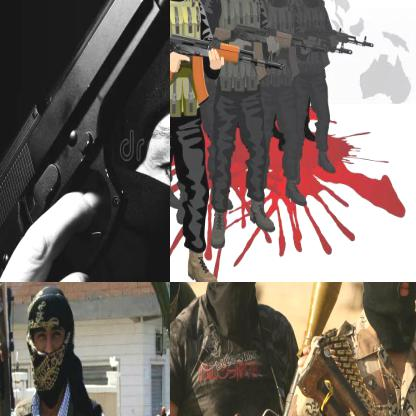pistol: (0, 0, 169, 277)
rifle: (230, 282, 360, 415), (295, 329, 415, 415), (170, 28, 288, 108), (228, 23, 348, 74), (126, 282, 169, 415), (0, 282, 29, 415)
